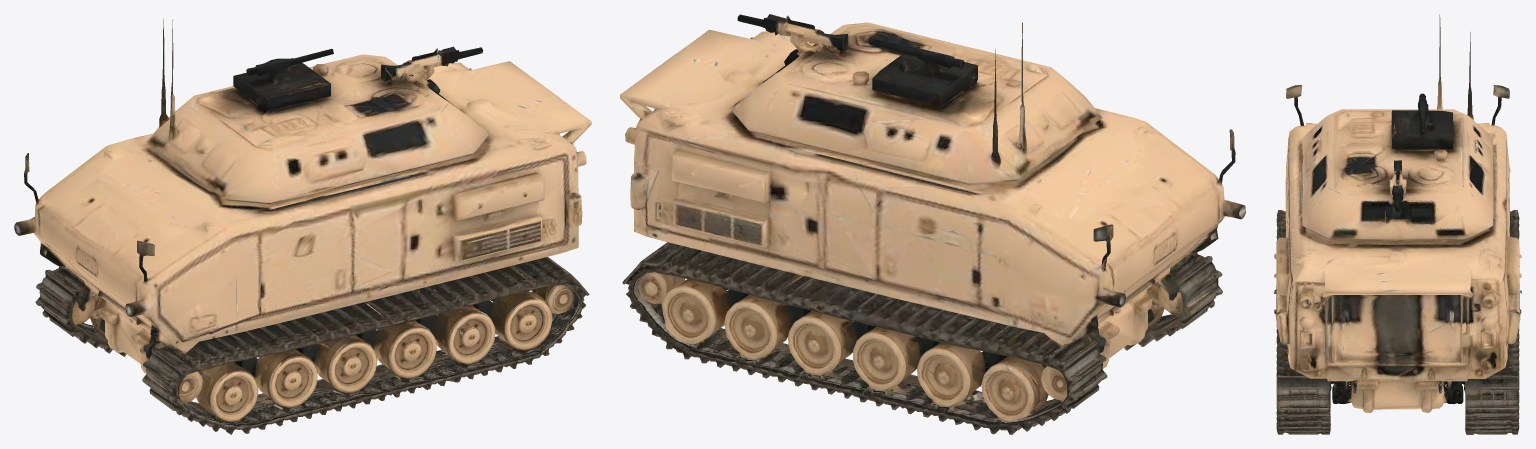
The model's file is apc.glb.
3 renders of one model, left to right at view 1: azimuth 30°, elevation 25°; view 2: azimuth 150°, elevation 25°; view 3: azimuth 270°, elevation 25°, orthographic. The views are drawn at different scales.
Bounding box in the file's own units: 3.49 × 2.4 × 1.77.
1 material, 1 textured.
